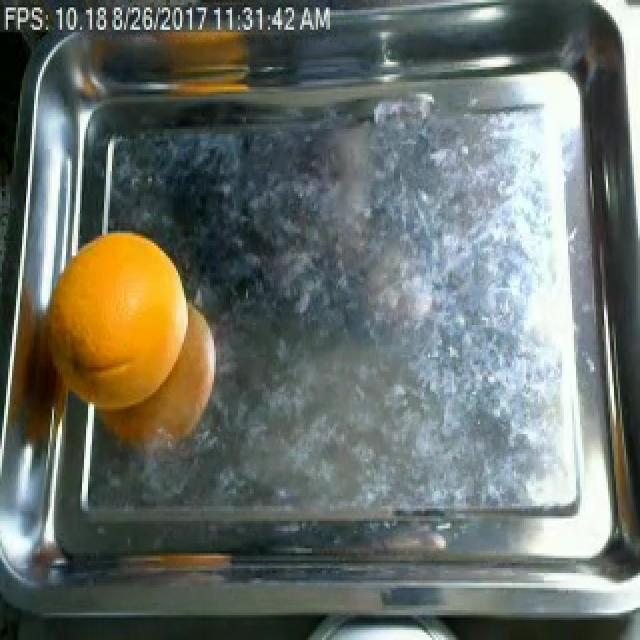Fruit: (38, 216, 202, 461)
